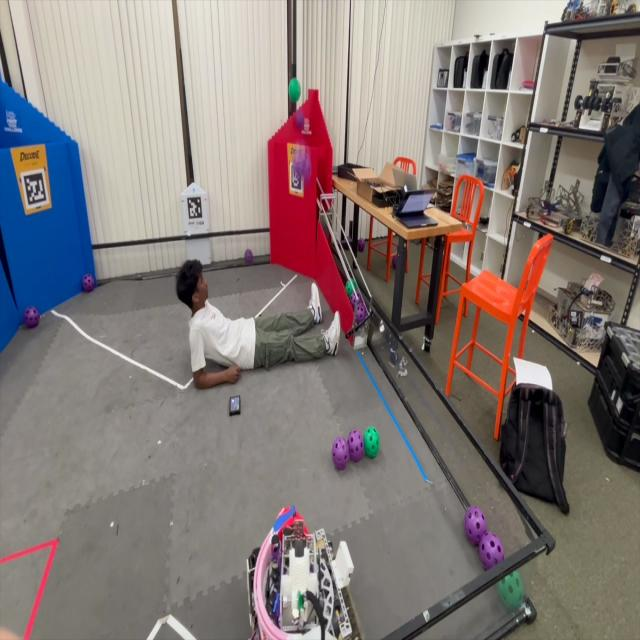artifact_green: (498, 571, 525, 611), (364, 427, 379, 458), (288, 78, 300, 103), (346, 279, 357, 297), (346, 280, 354, 298), (298, 592, 304, 610), (351, 279, 358, 291)
artifact_purple: (479, 532, 503, 569), (465, 506, 486, 545), (332, 437, 349, 470), (348, 430, 364, 462), (24, 307, 39, 328), (356, 300, 368, 324), (302, 153, 311, 181), (82, 274, 95, 292), (295, 111, 304, 130), (350, 292, 359, 309), (244, 249, 253, 264), (391, 255, 397, 269), (358, 238, 364, 252)
